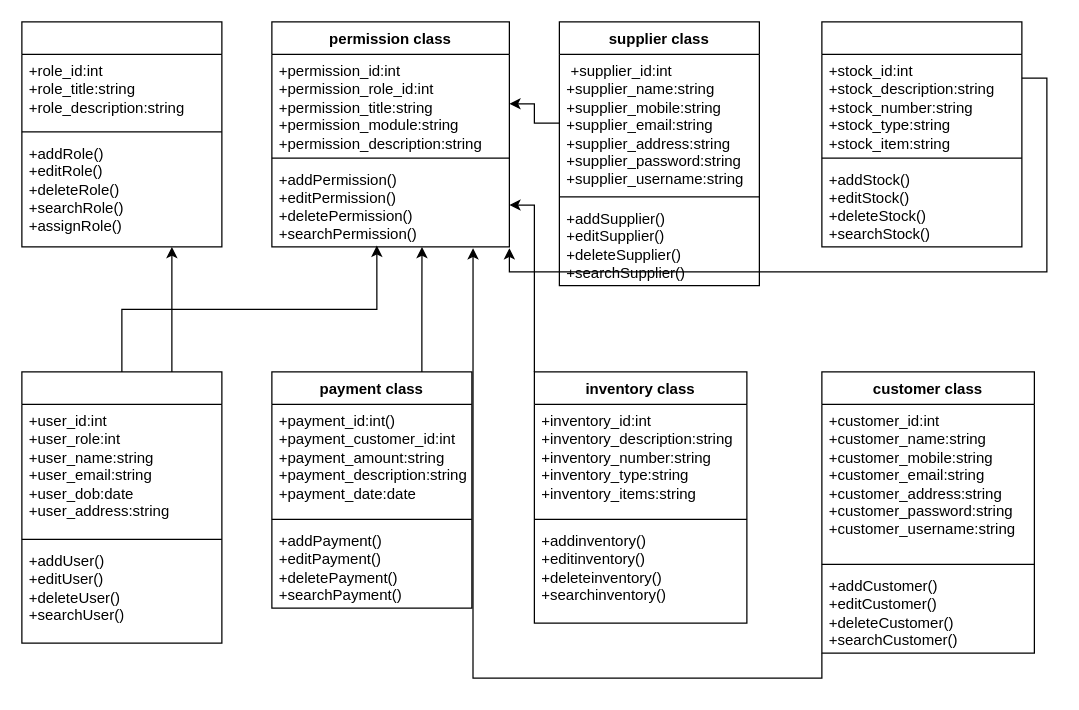
Image size: 1079x710. Some labels were removed from this diagram. The box of each missing label's shape, as (x1, y1, x2, y2) in pixels:
role class: (21, 21, 222, 247)
stock Class: (821, 21, 1022, 247)
user class: (21, 371, 222, 643)
